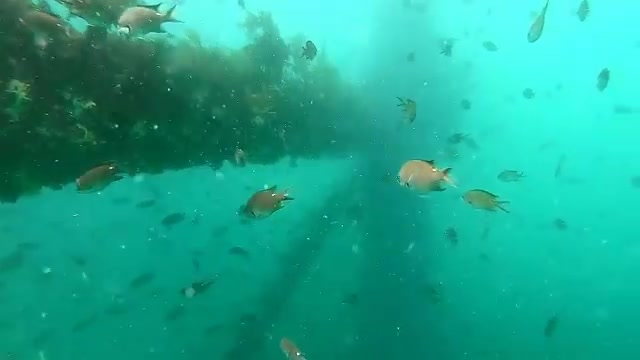smallfish: (231, 178, 301, 221), (395, 150, 450, 198), (461, 178, 510, 217)
